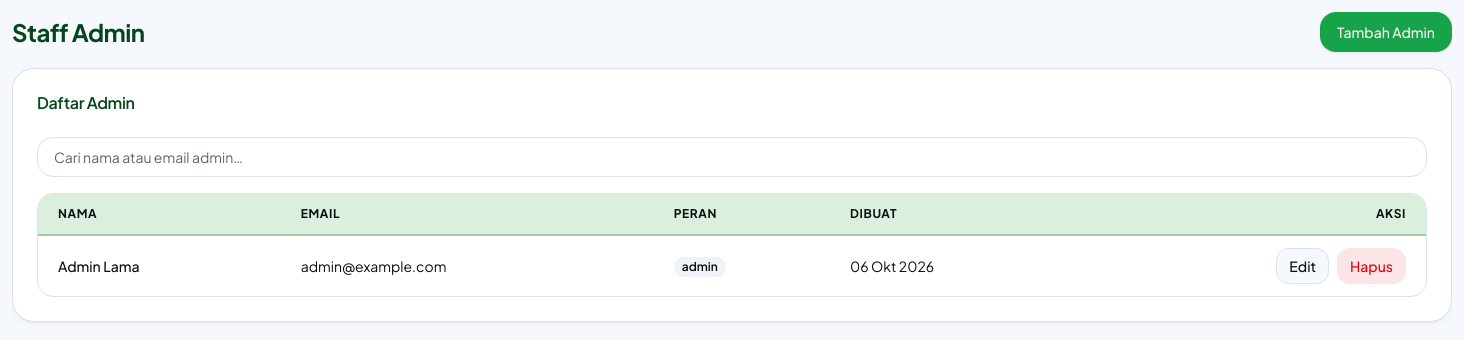
Staff admin › filters staff by email and shows an empty state
Expected: the text "Admin Lama" is shown, [38, 235, 285, 296]
Type "not-found" into the field named "Cari admin" at coordinates (732, 157), box [37, 137, 1427, 177]
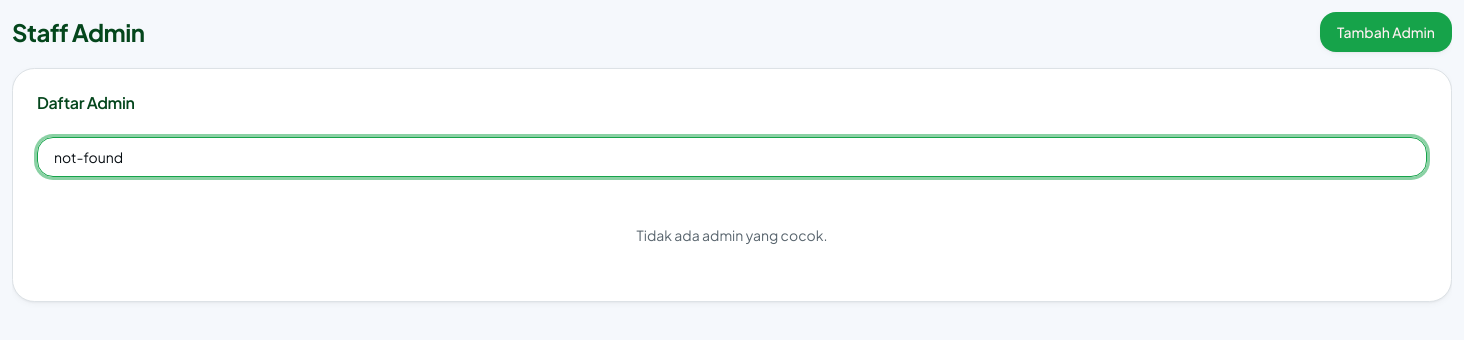
Result: the text "Tidak ada admin yang cocok." is shown at [636, 226, 827, 244]
